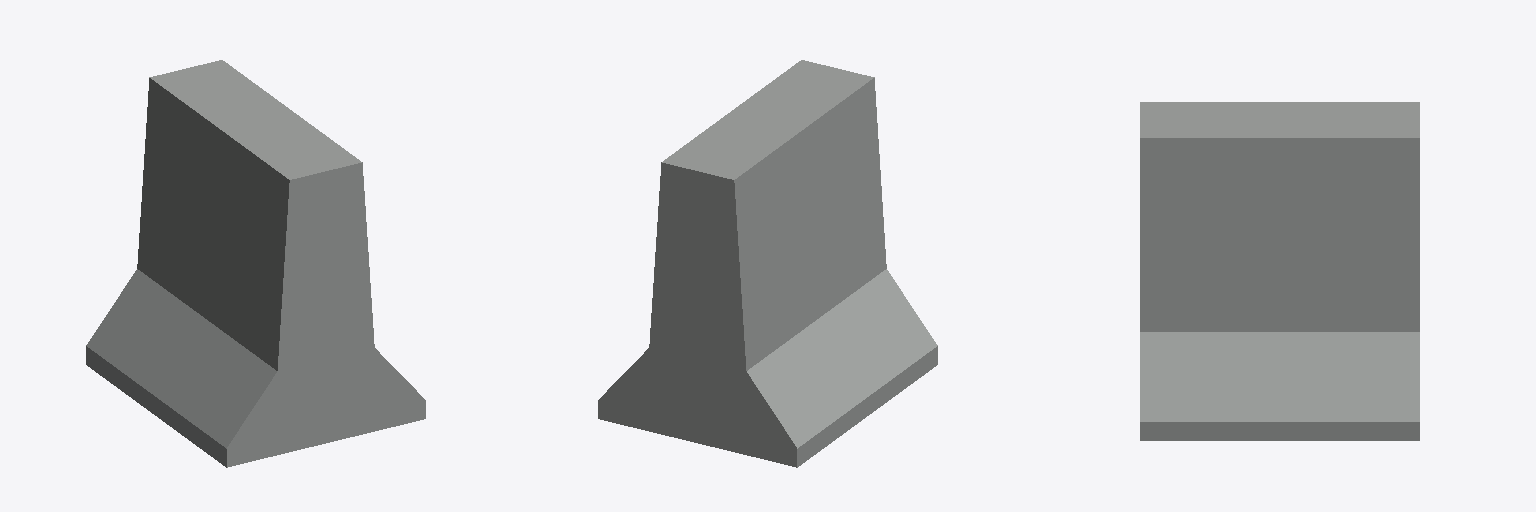
The model's file is Jersey_Barrier.obj.
3 views of the same model, side by side, from view 1: azimuth 30°, elevation 25°; view 2: azimuth 150°, elevation 25°; view 3: azimuth 270°, elevation 25° (orthographic).
Visible parts, largest first — view 1: Mesh1 Model; view 2: Mesh1 Model; view 3: Mesh1 Model.
Boxes of the visible parts, <box> form: Mesh1 Model: <box>86,60,425,467</box>; Mesh1 Model: <box>598,60,937,467</box>; Mesh1 Model: <box>1140,102,1419,440</box>.
Size of the model in its own units: 0.82 by 1.07 by 1.